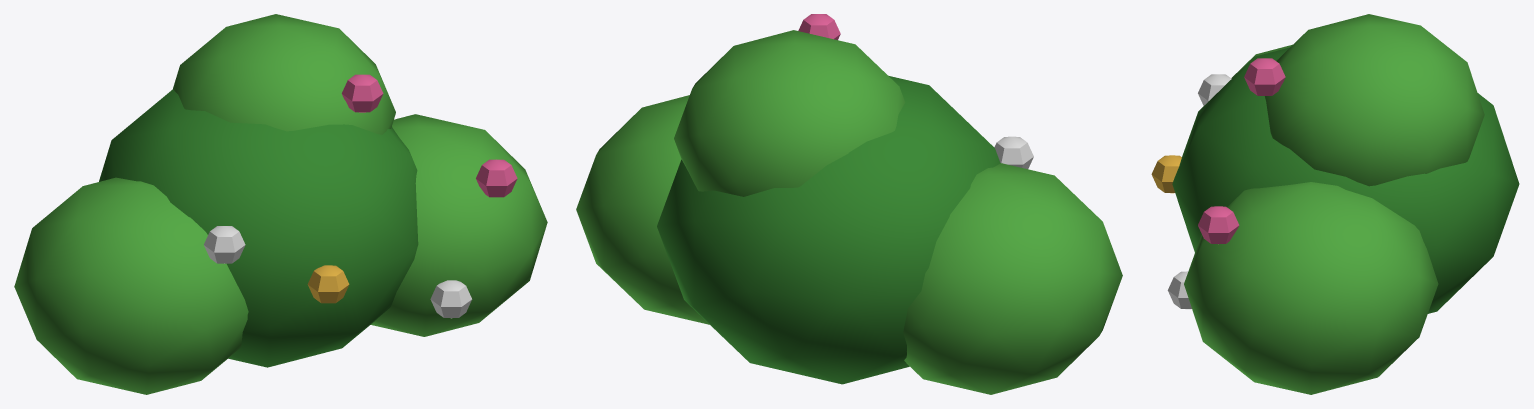
Rendered from bush.glb.
The picture shows the model from 3 angles, left to right: view 1: azimuth 30°, elevation 25°; view 2: azimuth 150°, elevation 25°; view 3: azimuth 270°, elevation 25°; orthographic projection. The views are drawn at different scales.
Parts seen in each view (by area): view 1: body; view 2: body; view 3: body.
Boxes of the visible parts, x1,y1,x2,y2 form: body: (14,14,547,394); body: (576,14,1122,394); body: (1151,14,1519,394).
Size of the model in its own units: 2.4 by 1.46 by 1.59.
